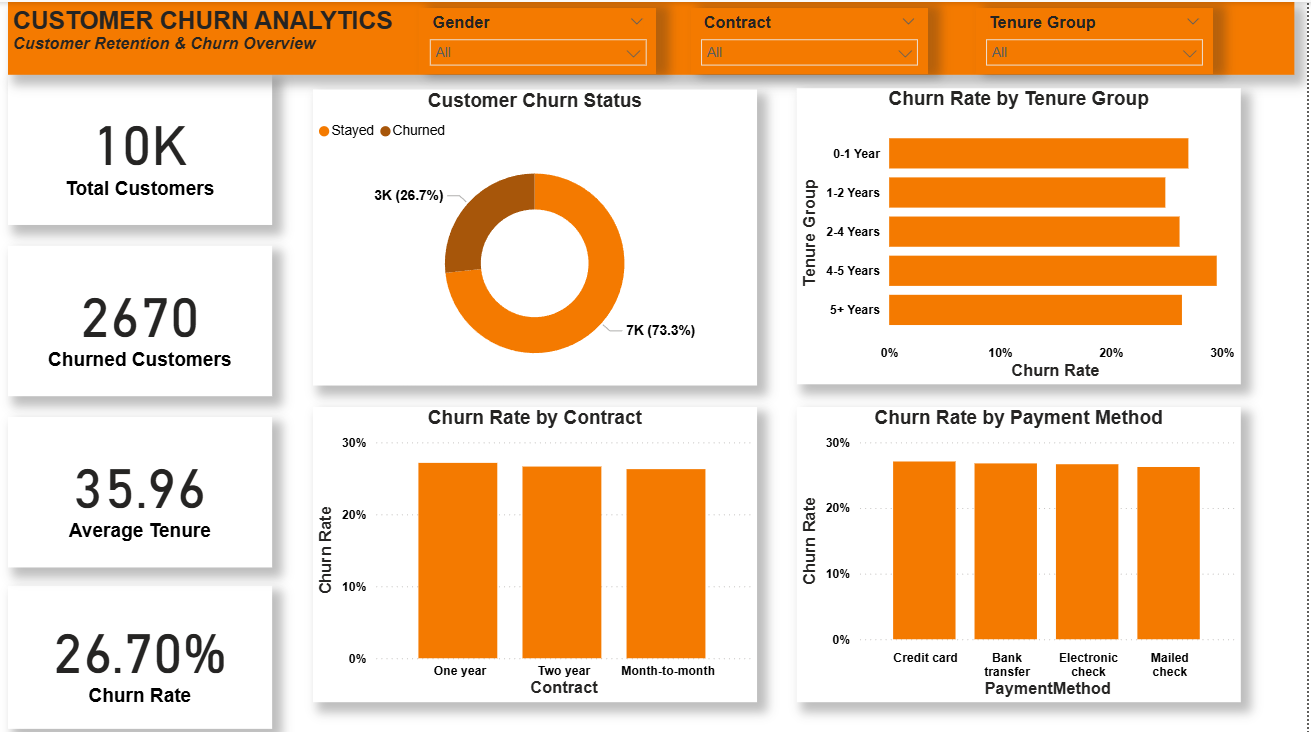

What the dashboard file says about the page in this screenshot:
{"tool":"powerbi","page":{"name":"Customer Overview","canvas":[1280,720],"ordinal":0},"visuals":[{"type":"textbox","box":[9.8,70.9,259.2,649.3],"z":0},{"type":"card","fields":{"Values":["Customer_Churn_Analysis.Total Customers"]},"box":[10.1,70.7,258.3,147.2],"z":1000},{"type":"card","fields":{"Values":["Customer_Churn_Analysis.Churned Customers"]},"box":[10.1,238.1,258.3,147.2],"z":2000},{"type":"card","fields":{"Values":["Customer_Churn_Analysis.Churn Rate"]},"box":[10.1,571.3,258.3,139.9],"z":3000},{"type":"card","fields":{"Values":["Customer_Churn_Analysis.Average Tenure"]},"box":[10.1,405.4,258.3,147.2],"z":4000},{"type":"textbox","box":[9.8,0,1258.3,70.9],"z":5000},{"type":"donutChart","title":"Customer Churn Status","fields":{"Category":["Customer_Churn_Analysis.Churn Status"],"Y":["Customer_Churn_Analysis.Total Customers"]},"box":[308.2,85.6,434.1,289.8],"z":6000},{"type":"clusteredColumnChart","title":"Churn Rate by Contract","fields":{"Category":["Customer_Churn_Analysis.Contract"],"Y":["Customer_Churn_Analysis.Churn Rate"]},"box":[308.2,396.2,434.1,288.6],"z":7000},{"type":"barChart","title":"Churn Rate by Tenure Group","fields":{"Category":["Customer_Churn_Analysis.Tenure Group"],"Y":["Customer_Churn_Analysis.Churn Rate"]},"box":[781.4,84.4,434.1,289.8],"z":8000},{"type":"clusteredColumnChart","title":"Churn Rate by Payment Method","fields":{"Category":["Customer_Churn_Analysis.PaymentMethod"],"Y":["Customer_Churn_Analysis.Churn Rate"]},"box":[781,396,434,289],"z":9000},{"type":"slicer","fields":{"Values":["Customer_Churn_Analysis.Gender"]},"box":[412.1,6.1,232,64],"z":10000},{"type":"slicer","fields":{"Values":["Customer_Churn_Analysis.Contract"]},"box":[677.4,6.1,232.3,64.8],"z":11000},{"type":"slicer","fields":{"Values":["Customer_Churn_Analysis.Tenure Group"]},"box":[956.3,6.1,232,64],"z":12000}]}

Visuals, with their boxes in screenshot pixels (x1, y1, x2, y2), scaled from the page's 1280x720 canvas onto the 1311x732 screenshot:
textbox: [x1=10, y1=72, x2=276, y2=731]
card - Customer_Churn_Analysis.Total Customers: [x1=10, y1=72, x2=275, y2=222]
card - Customer_Churn_Analysis.Churned Customers: [x1=10, y1=242, x2=275, y2=392]
card - Customer_Churn_Analysis.Churn Rate: [x1=10, y1=581, x2=275, y2=723]
card - Customer_Churn_Analysis.Average Tenure: [x1=10, y1=412, x2=275, y2=562]
textbox: [x1=10, y1=0, x2=1299, y2=72]
"Customer Churn Status" donutChart: [x1=316, y1=87, x2=760, y2=382]
"Churn Rate by Contract" clusteredColumnChart: [x1=316, y1=403, x2=760, y2=696]
"Churn Rate by Tenure Group" barChart: [x1=800, y1=86, x2=1245, y2=380]
"Churn Rate by Payment Method" clusteredColumnChart: [x1=800, y1=403, x2=1244, y2=696]
slicer - Customer_Churn_Analysis.Gender: [x1=422, y1=6, x2=660, y2=71]
slicer - Customer_Churn_Analysis.Contract: [x1=694, y1=6, x2=932, y2=72]
slicer - Customer_Churn_Analysis.Tenure Group: [x1=979, y1=6, x2=1217, y2=71]
